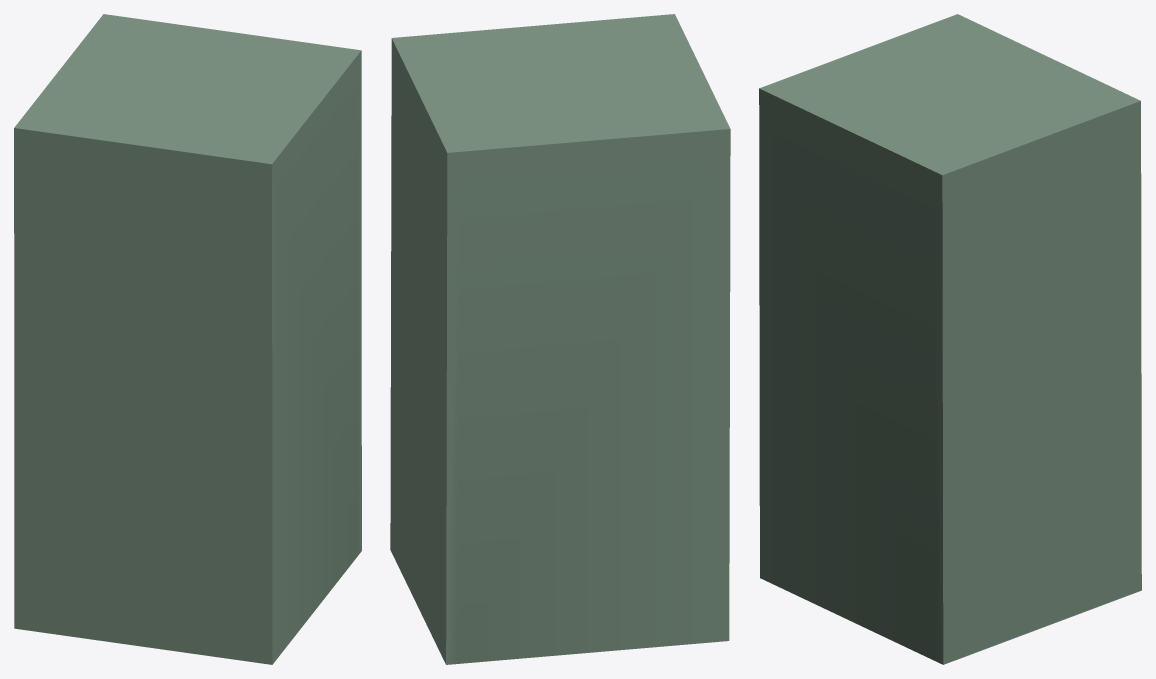
The model's file is MSH_QuestObject_cabinet_09.fbx.
The picture shows the model from 3 angles, left to right: view 1: azimuth 30°, elevation 25°; view 2: azimuth 150°, elevation 25°; view 3: azimuth 270°, elevation 25°; orthographic projection. The views are drawn at different scales.
Parts seen in each view (by area): view 1: MSH_QuestObject_cabinet_09; view 2: MSH_QuestObject_cabinet_09; view 3: MSH_QuestObject_cabinet_09.
Part boxes in pixels (<box>): MSH_QuestObject_cabinet_09: <box>14,14,361,664</box>; MSH_QuestObject_cabinet_09: <box>390,14,730,664</box>; MSH_QuestObject_cabinet_09: <box>759,14,1141,664</box>.
Size of the model in its own units: 1.61 by 2.26 by 1.6.
